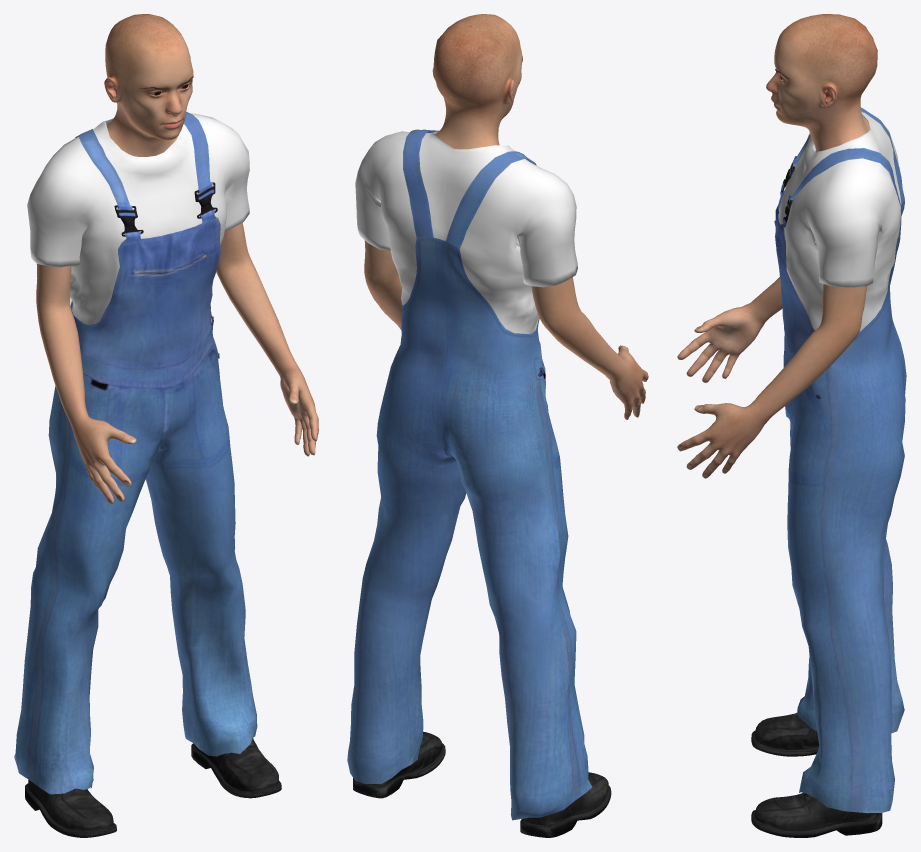
Rendered from spare.glb.
3 views of the same model, side by side, from view 1: azimuth 30°, elevation 25°; view 2: azimuth 150°, elevation 25°; view 3: azimuth 270°, elevation 25° (orthographic).
Parts seen in each view (by area): view 1: Human.male_worksuit01, Human, Human.shoes04; view 2: Human.male_worksuit01, Human, Human.shoes04; view 3: Human.male_worksuit01, Human, Human.shoes04.
Boxes of the visible parts, <box> form: Human.male_worksuit01: <box>14,111,257,794</box>; Human: <box>36,14,318,504</box>; Human.shoes04: <box>25,737,281,837</box>; Human.male_worksuit01: <box>347,129,591,820</box>; Human: <box>364,14,648,419</box>; Human.shoes04: <box>353,731,611,837</box>; Human.male_worksuit01: <box>774,107,906,813</box>; Human: <box>677,14,877,478</box>; Human.shoes04: <box>751,713,882,837</box>.
Size of the model in its own units: 0.4946 by 1.62 by 0.4381.
Materials: 5 (5 with a texture image).
